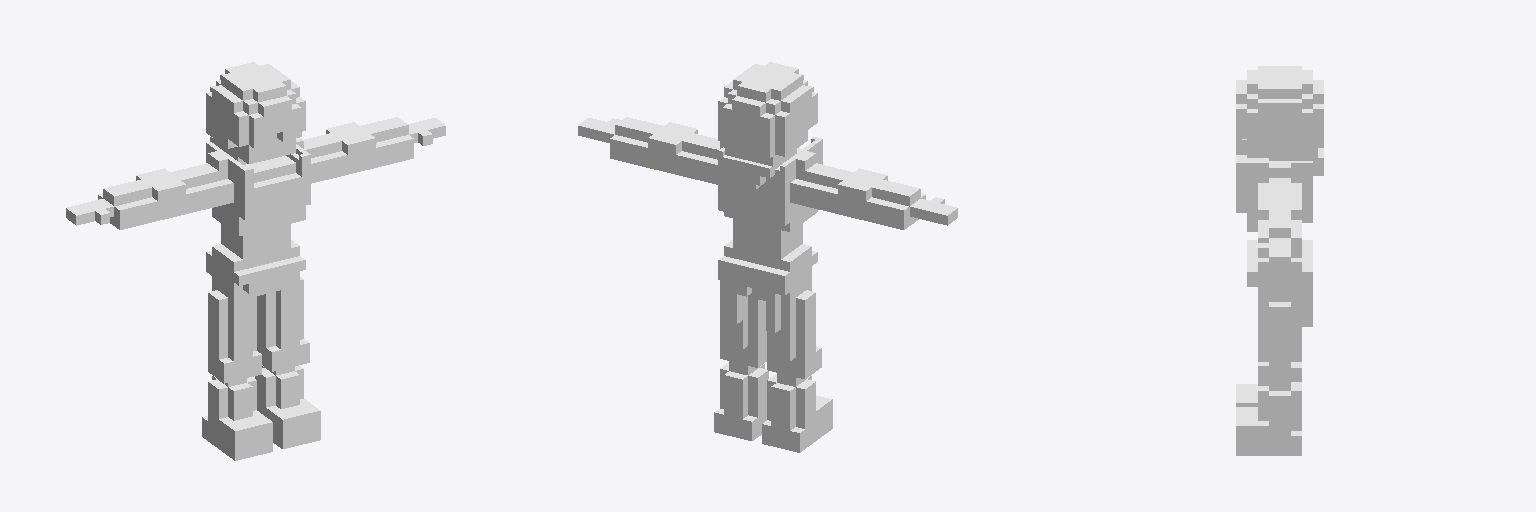
Rendered from Character-7.obj.
3 views of the same model, side by side, from view 1: azimuth 30°, elevation 25°; view 2: azimuth 150°, elevation 25°; view 3: azimuth 270°, elevation 25° (orthographic).
Parts seen in each view (by area): view 1: object 1; view 2: object 1; view 3: object 1.
Boxes of the visible parts, x1=… form: object 1: x1=66, y1=62, x2=445, y2=460; object 1: x1=578, y1=62, x2=957, y2=452; object 1: x1=1236, y1=66, x2=1323, y2=455.
Bounding box in the file's own units: 7.8 × 7.2 × 1.6.